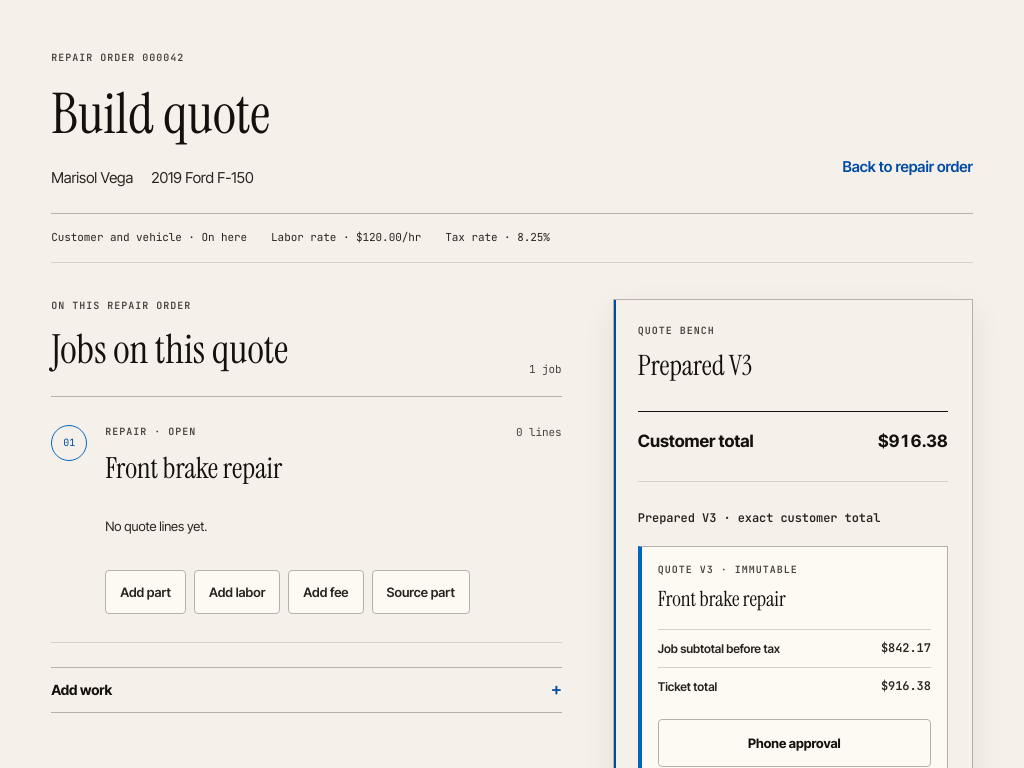
Shop OS exact-version approval UI › binds immutable facts into a two-tap phone confirmation and retains request identity through retry
Expected: the text "Quote V3 · immutable" is shown, [658,563,798,576]
Expected: the text "$842.17" is shown, [881,640,931,657]
What coordinates should you click on to do the following:
click the button "Phone approval"
I would click on:
 (794, 743)
Its box is [658,719,931,767].
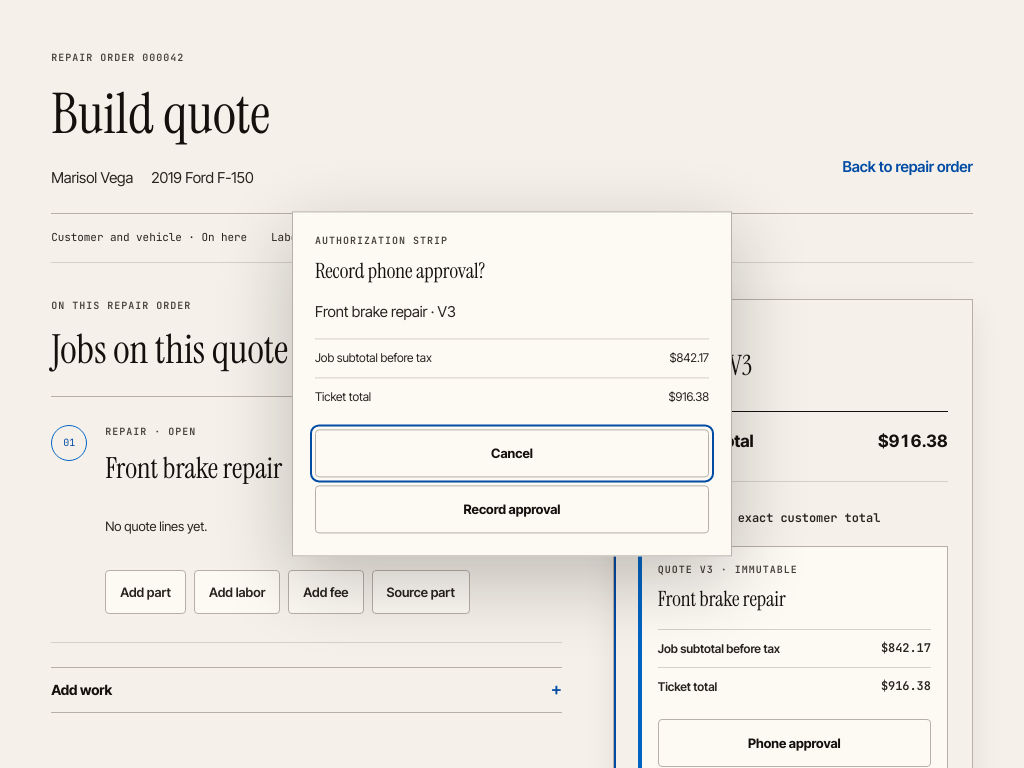
Now the text "Front brake repair · V3" is shown, box [315,302,456,321]
What coordinates should you click on to do the following:
click the button "Record approval"
I would click on:
 (512, 510)
Its box is [315,486,709,534].
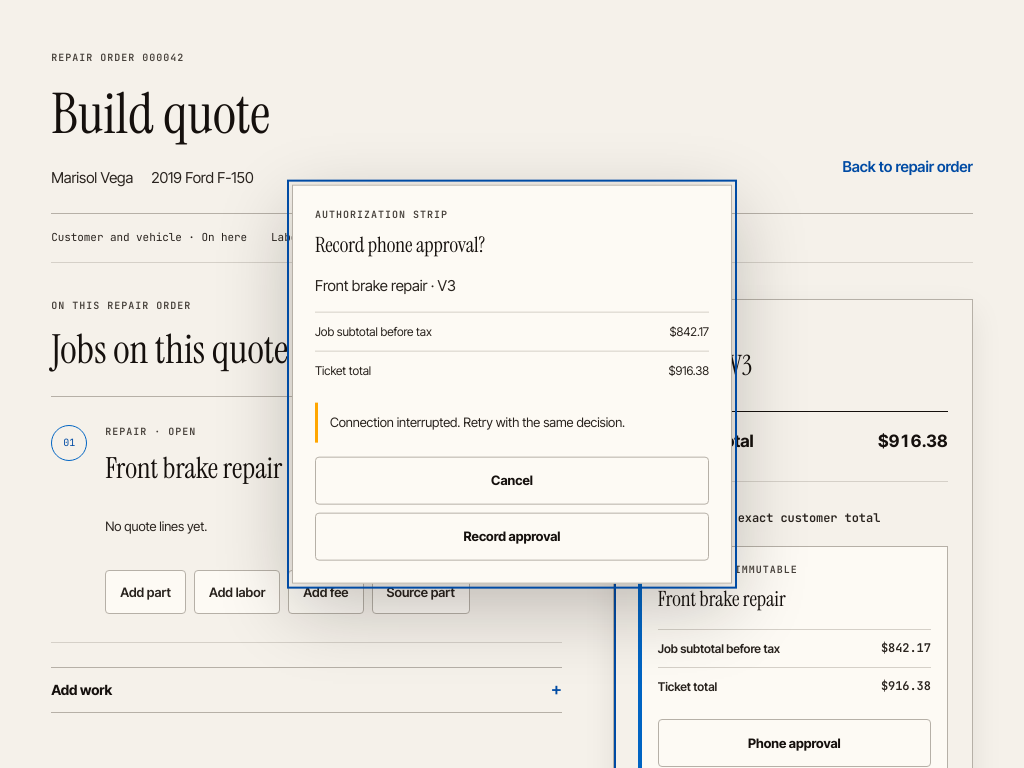
Now the text "Connection interrupted. Retry with the same decision." is shown, box [315,403,709,442]
What coordinates should you click on to do the following:
click the button "Record approval"
I would click on:
 (512, 536)
Its box is [315,512,709,560].
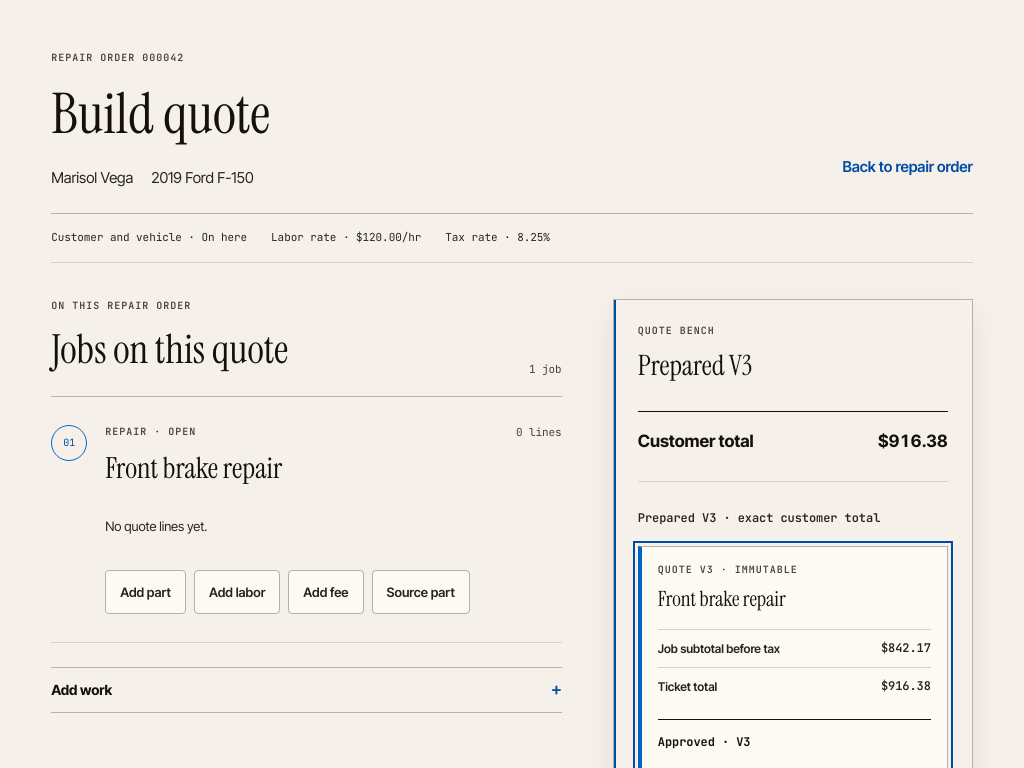
Now the text "Approved · V3" is shown, box [658,719,931,752]
